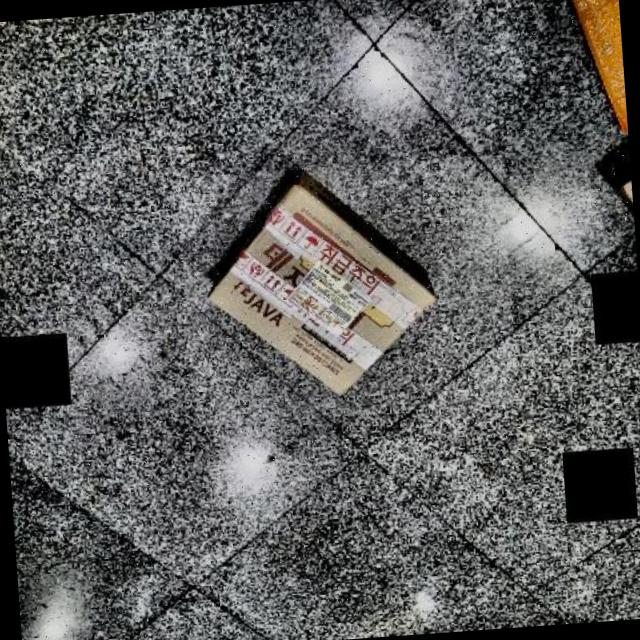box: (176, 154, 519, 427)
